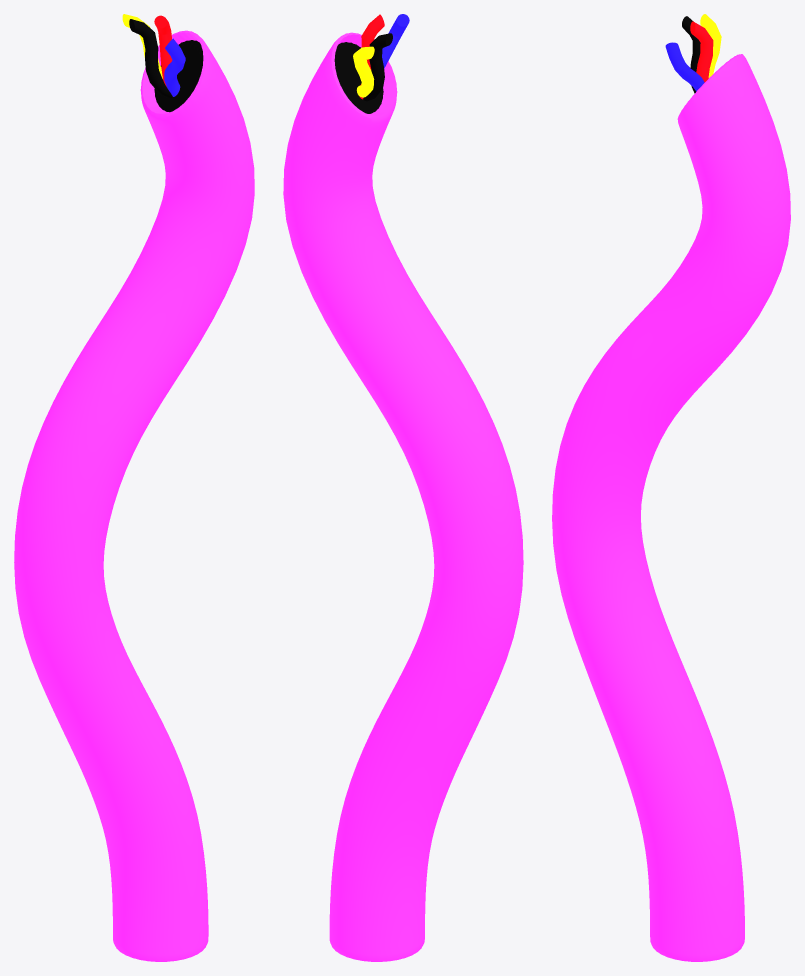
Rendered from Wire collectables.fbx.
The picture shows the model from 3 angles, left to right: view 1: azimuth 30°, elevation 25°; view 2: azimuth 150°, elevation 25°; view 3: azimuth 330°, elevation 25°; orthographic projection.
Parts seen in each view (by area): view 1: Circle; view 2: Circle; view 3: Circle.
Part boxes in pixels (x1=…): Circle: x1=14, y1=14, x2=254, y2=961; Circle: x1=283, y1=14, x2=523, y2=961; Circle: x1=552, y1=14, x2=790, y2=961.
Size of the model in its own units: 544 by 2131 by 200.
